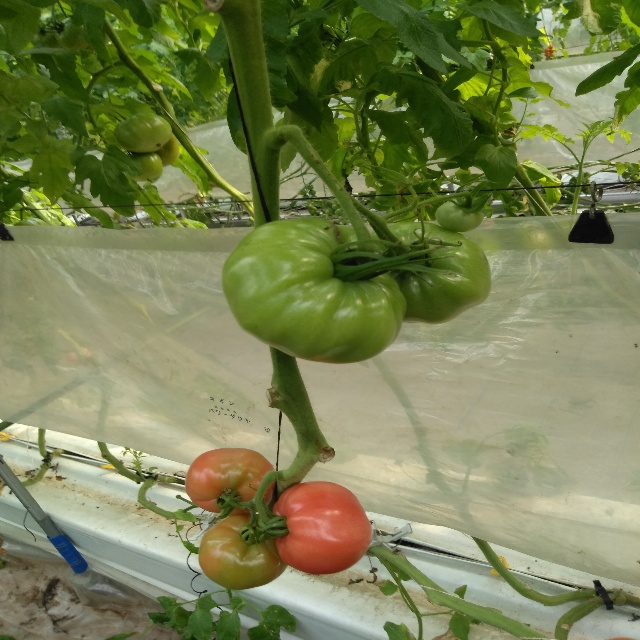b_fully_ripened: (273, 481, 372, 575)
b_green: (222, 217, 406, 364), (367, 222, 491, 325), (198, 514, 288, 590), (113, 113, 172, 153), (435, 198, 484, 232), (126, 153, 163, 182), (153, 133, 179, 167)
b_half_ripened: (184, 447, 275, 516)
